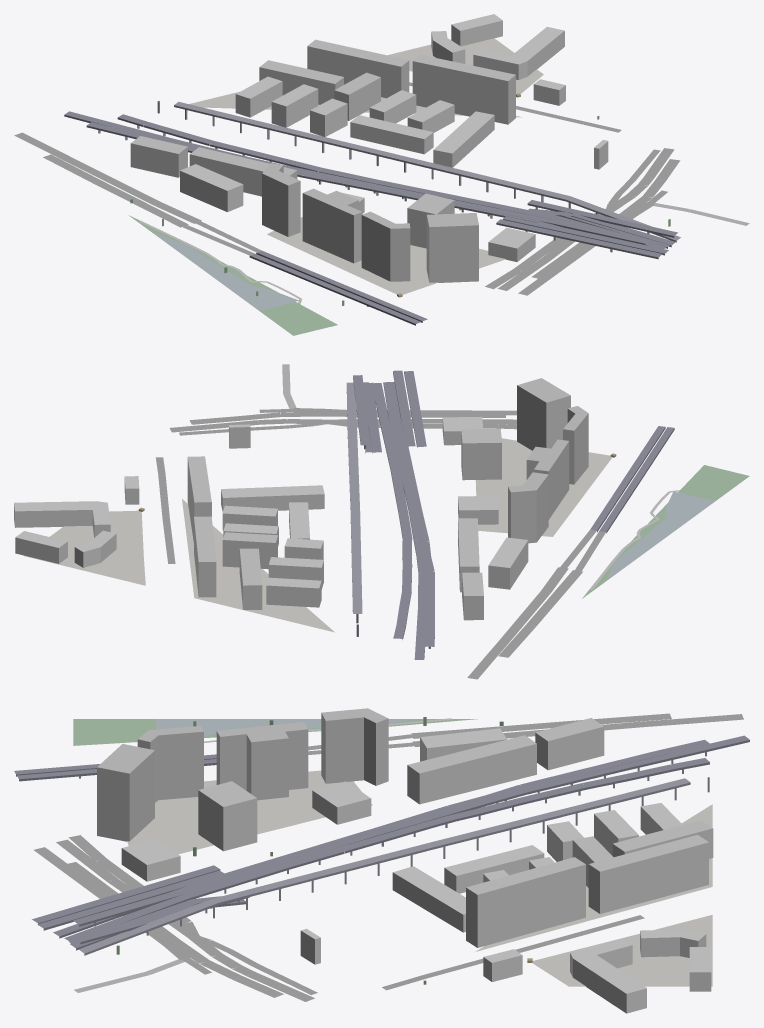
3 renders of one model, top to bottom at view 1: azimuth 30°, elevation 25°; view 2: azimuth 150°, elevation 25°; view 3: azimuth 270°, elevation 25°, orthographic. The views are drawn at different scales.
Bounding box in the file's own units: 556 × 61.41 × 576.
